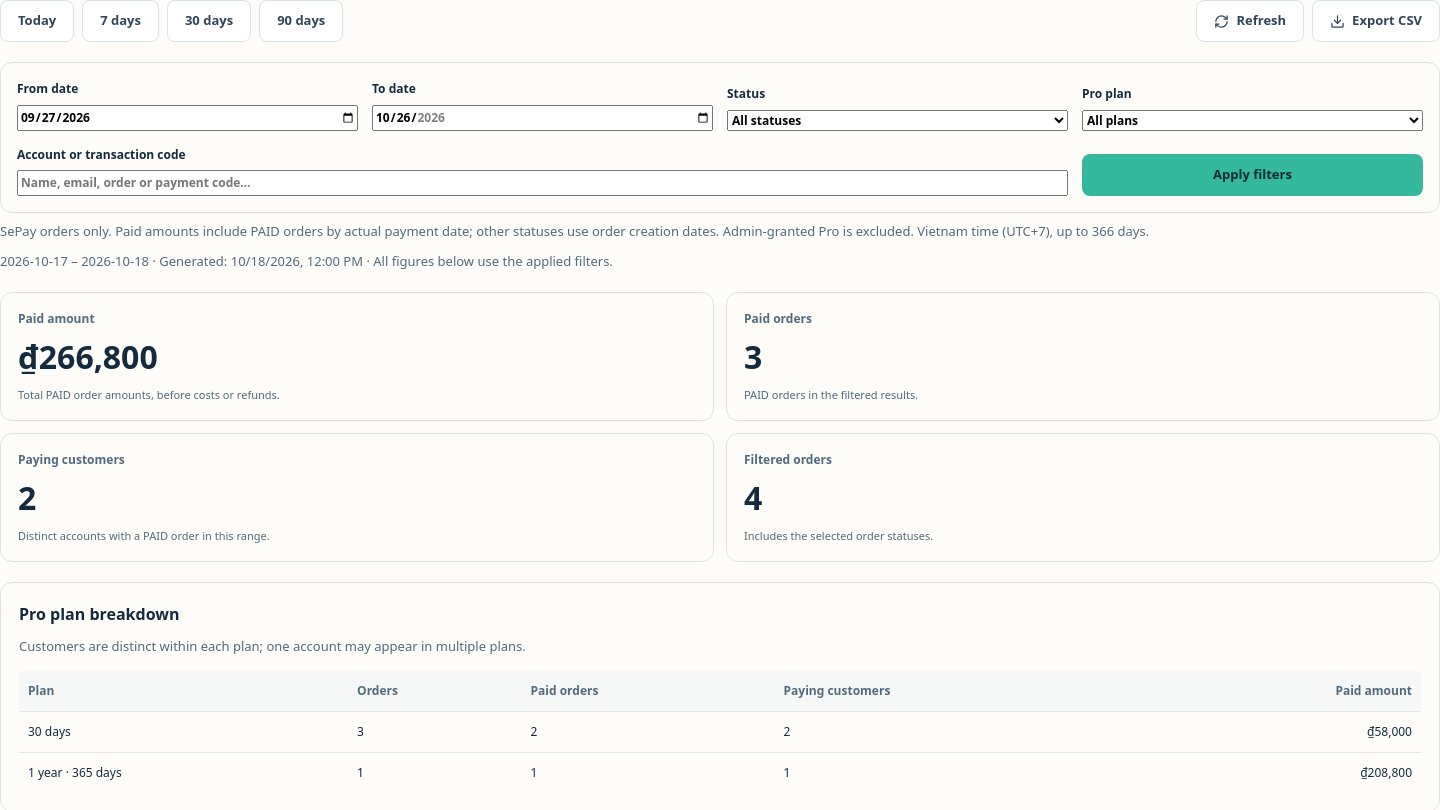
Test: global payments dashboard › applies all filters together, clears stale rows and aborts obsolete results
The image size is (1440, 810).
Select "Paid" in the dropdown labelled "Status": (898, 120) x1=727 y1=110 x2=1068 y2=131
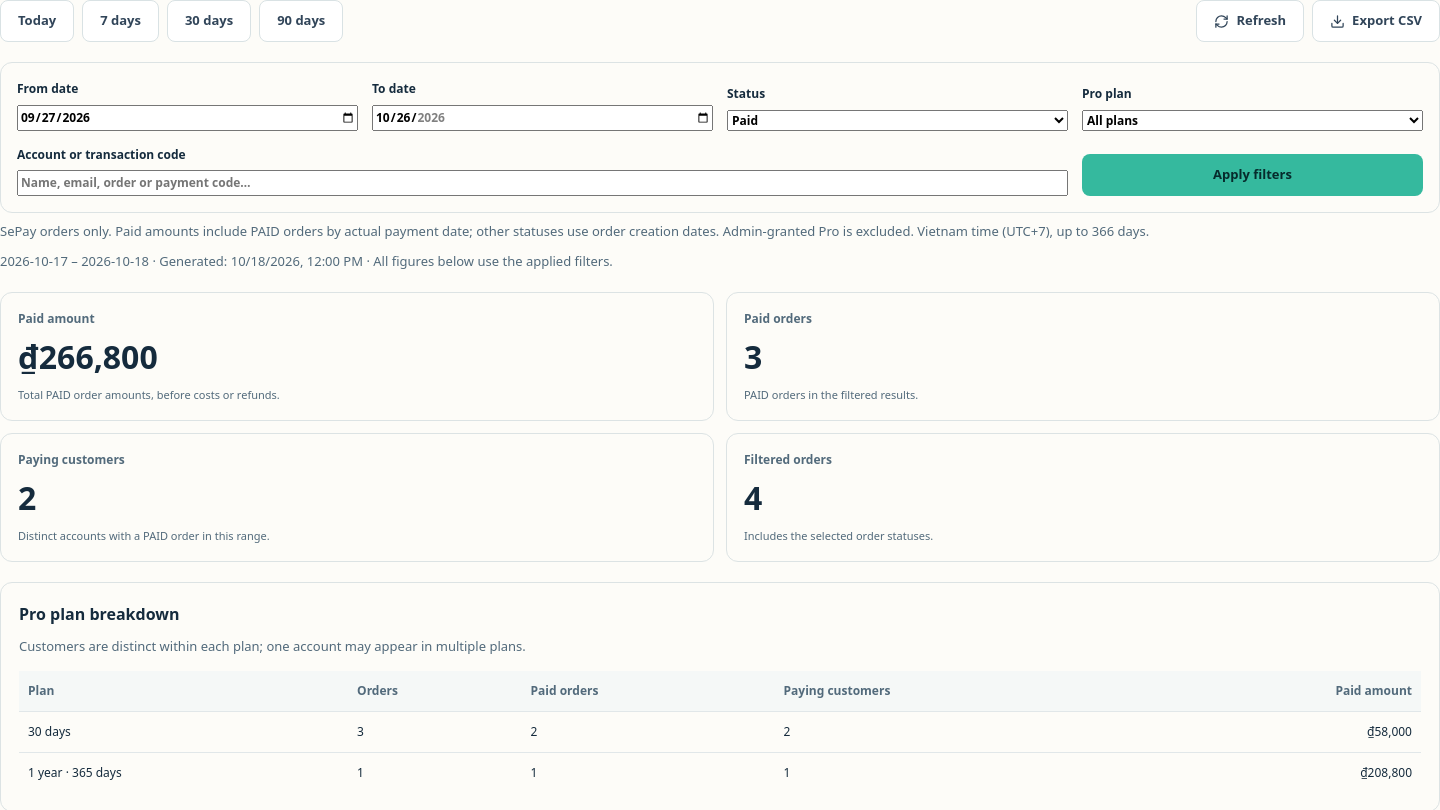
Select "1 year · 365 days" in the dropdown labelled "Pro plan": (1252, 120) x1=1082 y1=110 x2=1423 y2=131
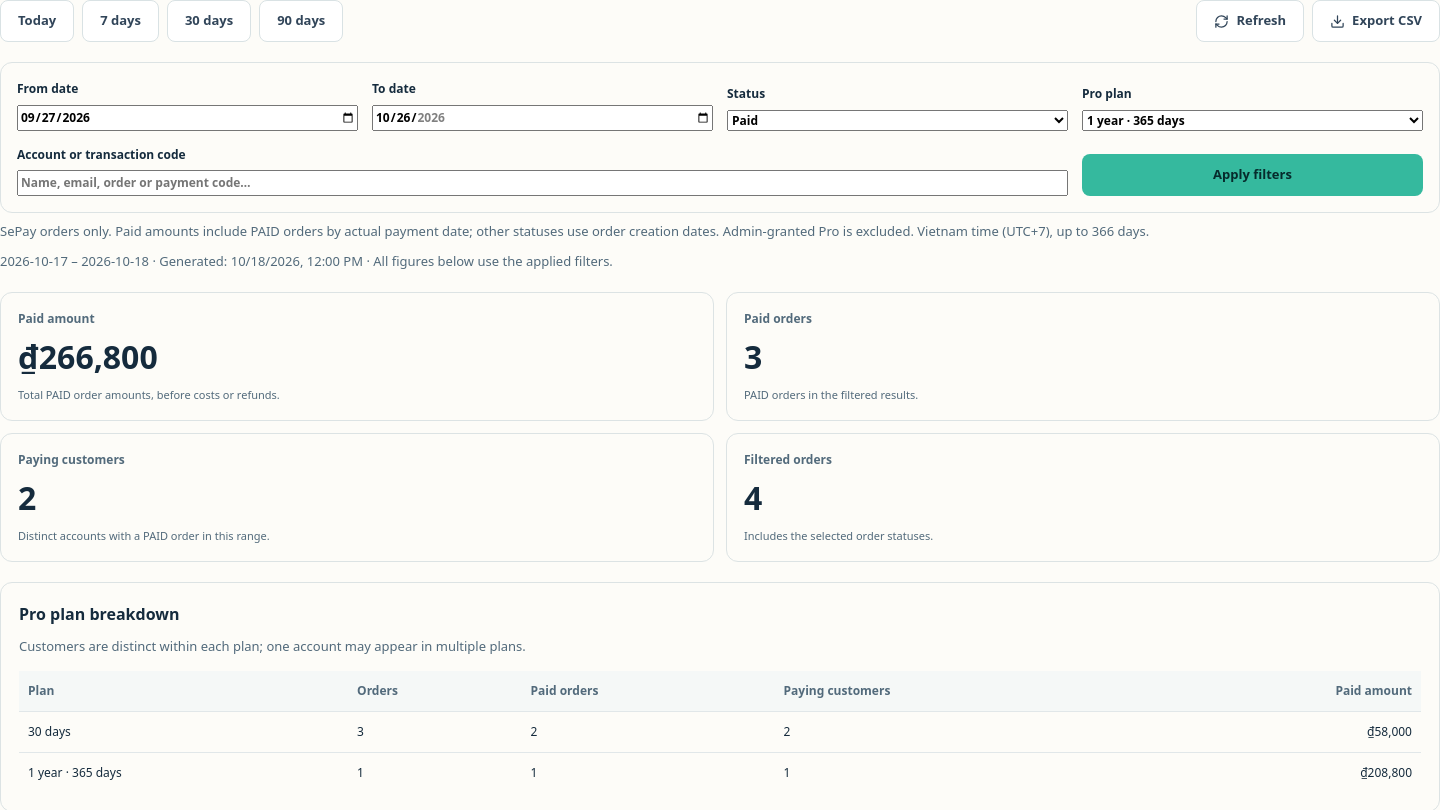
In the search field labelled "Account or transaction code": (542, 183) x1=17 y1=170 x2=1068 y2=196, type " reader+test@example.test "
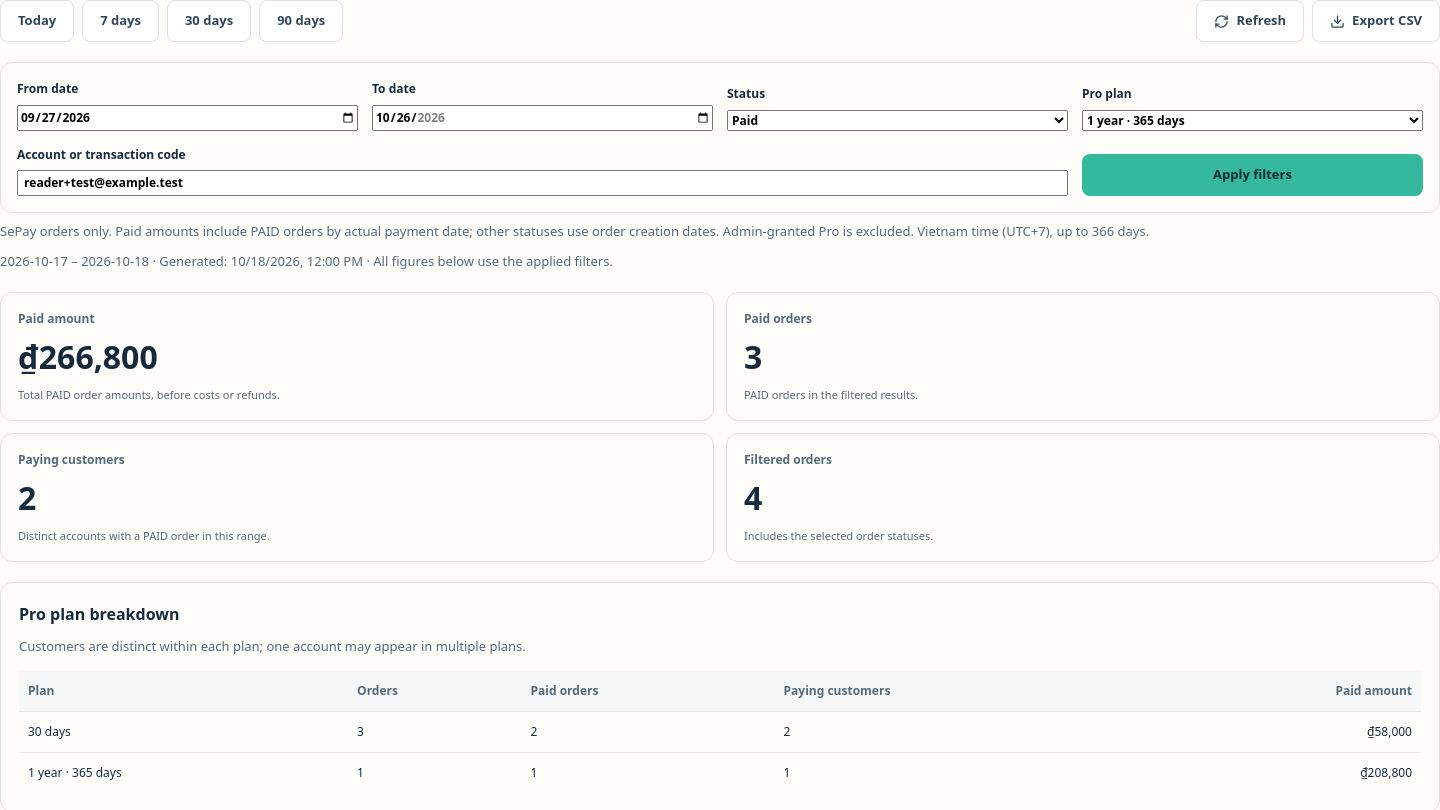
Submit the form named "Payment filters", box x1=0 y1=62 x2=1439 y2=213
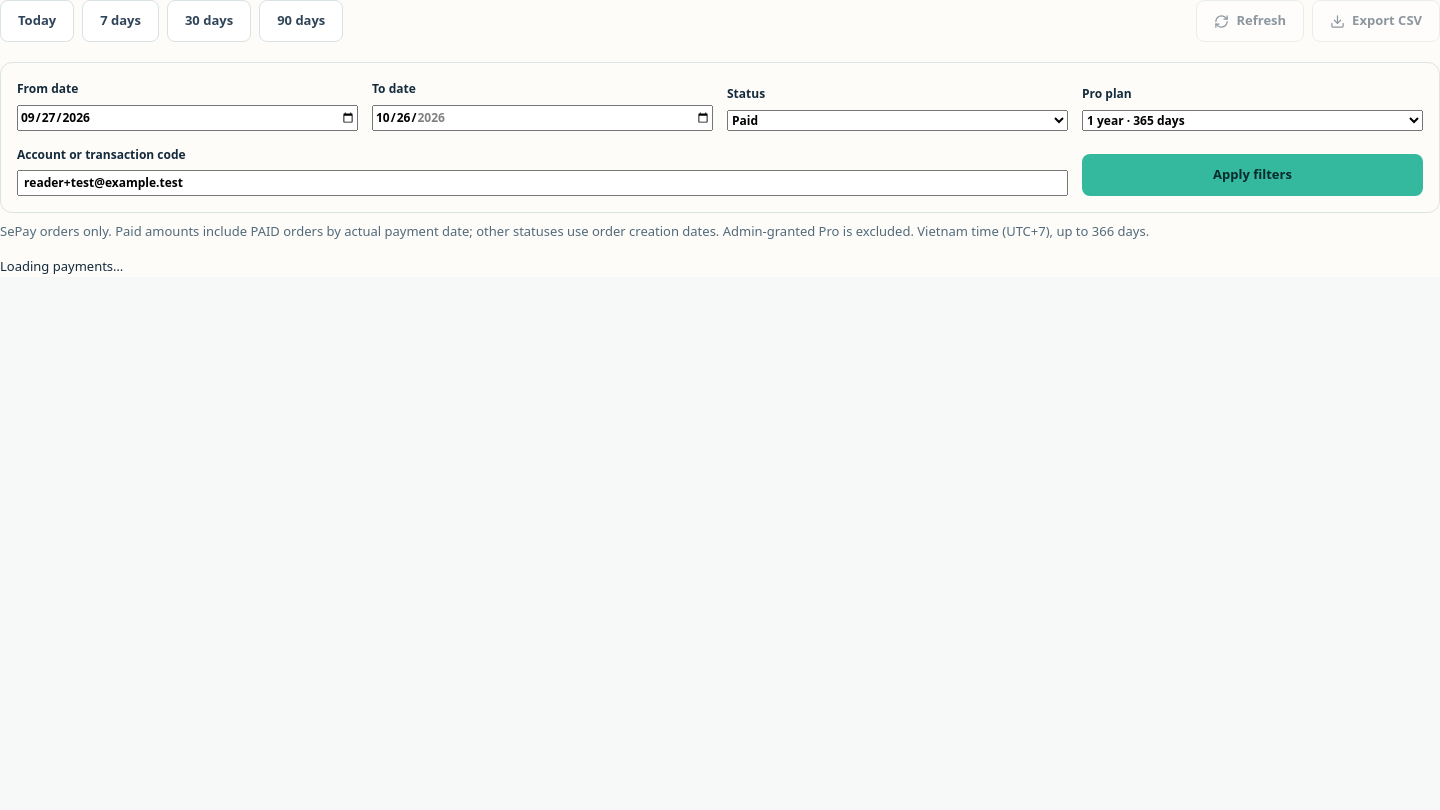
Expected: the text "reader@example.test" is not shown
Expected: the button "Export CSV" is disabled, x1=1312 y1=0 x2=1439 y2=42
Click the button "Today": (37, 21) x1=0 y1=0 x2=74 y2=42
(page scrolled)
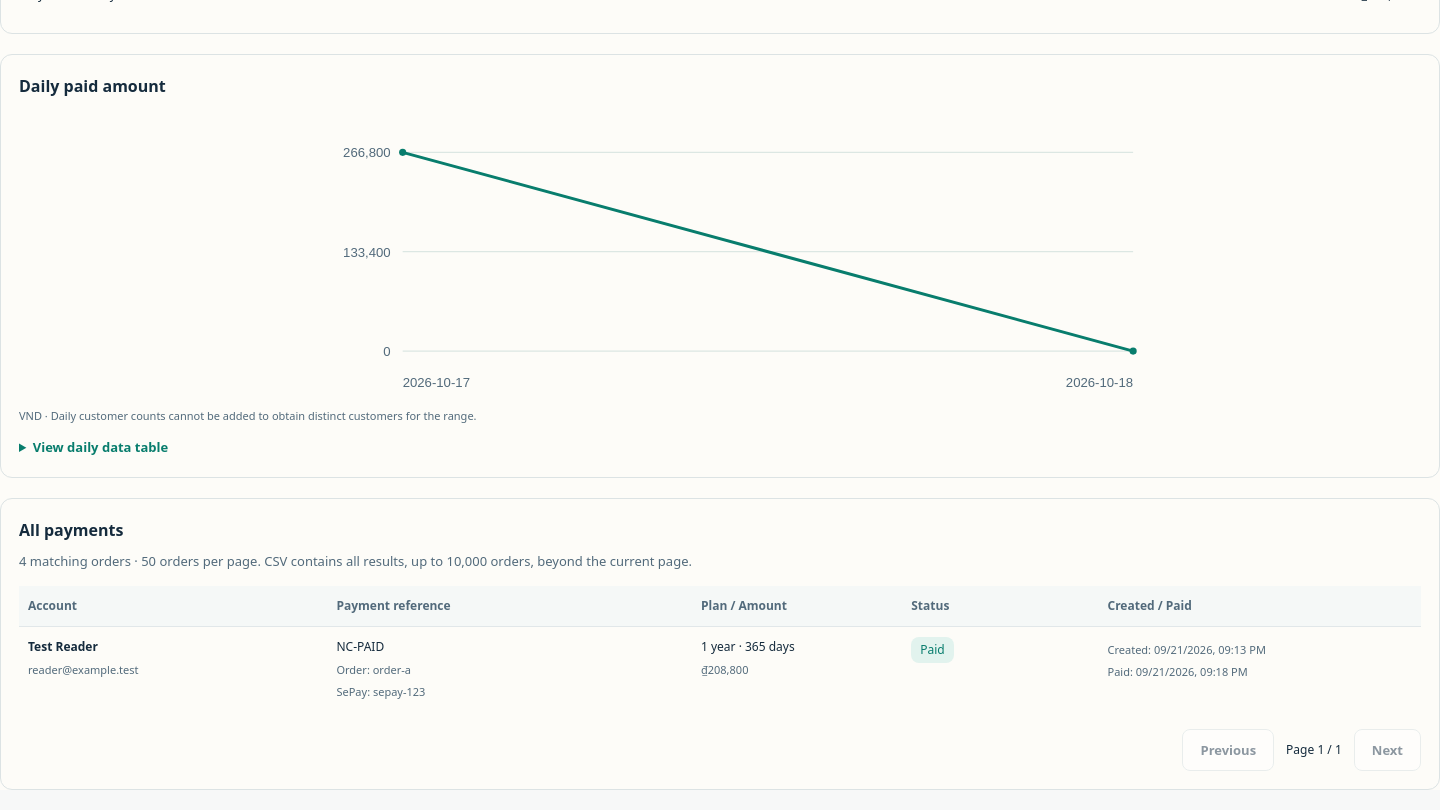
Expected: the text "reader@example.test" is shown, x1=28 y1=662 x2=138 y2=677
